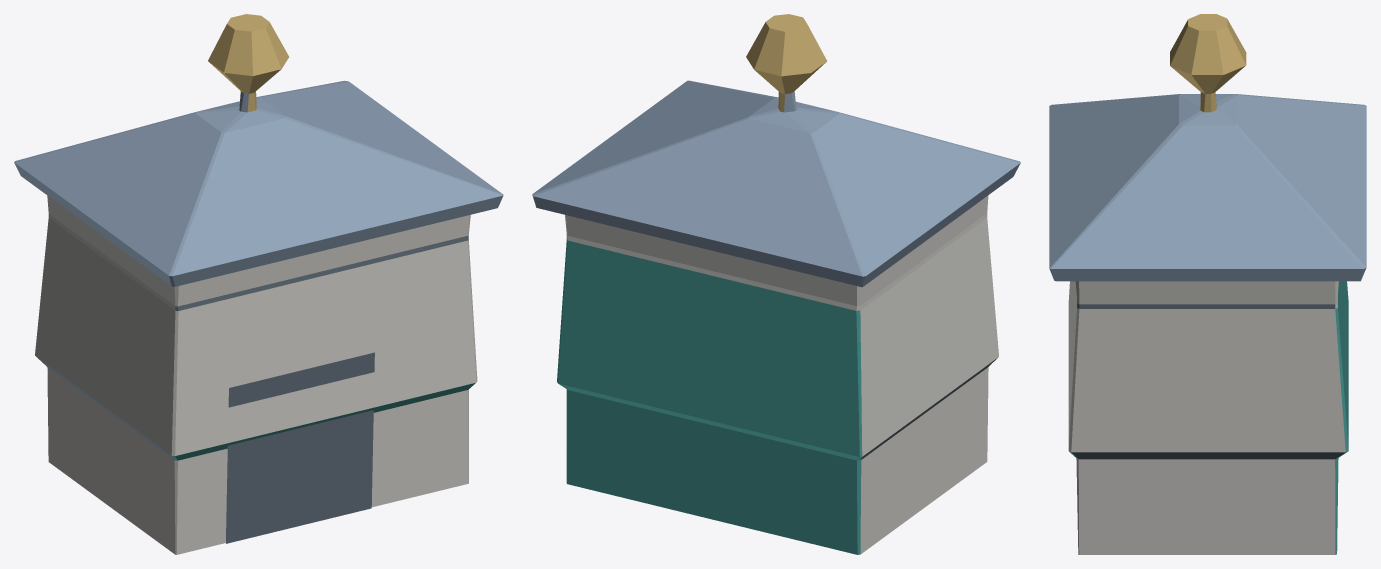
Rendered from loin.glb.
The picture shows the model from 3 angles, left to right: view 1: azimuth 30°, elevation 25°; view 2: azimuth 150°, elevation 25°; view 3: azimuth 270°, elevation 25°; orthographic projection.
Parts seen in each view (by area): view 1: loin; view 2: loin; view 3: loin.
Boxes of the visible parts, x1,y1,x2,y2 form: loin: [14, 14, 503, 554]; loin: [532, 14, 1020, 554]; loin: [1049, 14, 1366, 554].
Size of the model in its own units: 0.7351 by 0.9502 by 0.5998.
